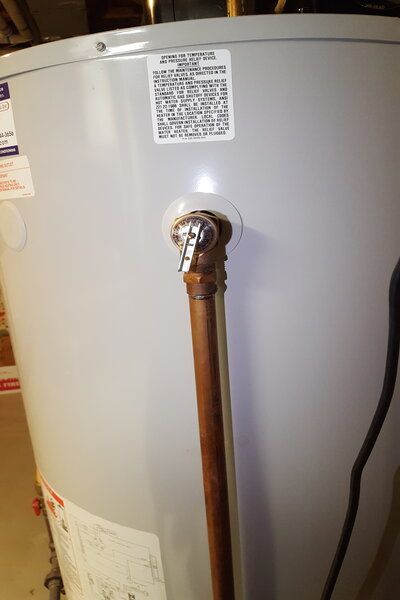valve: (169, 210, 233, 307)
